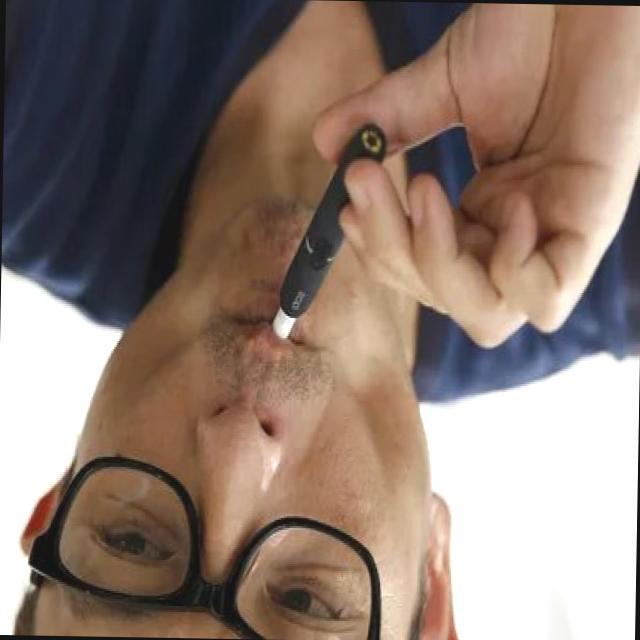smoke: (272, 118, 398, 350)
